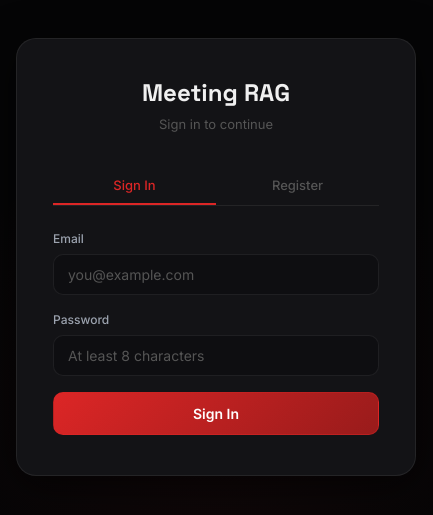
Test: AuthPage › shows email format error for invalid email
The image size is (433, 515).
Type "not-an-email" into the field labelled "Email". click: (216, 274)
box: x1=53 y1=254 x2=379 y2=295
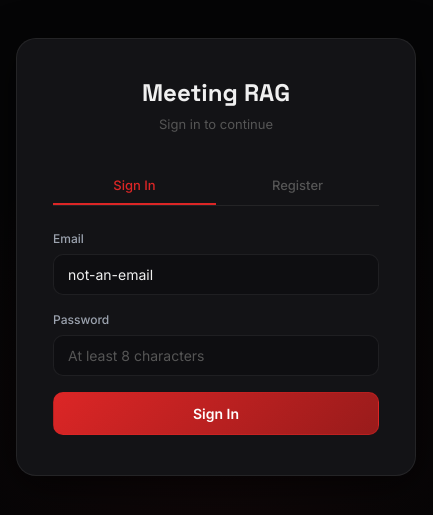
Click the button "Sign In" below "Password". click: click(216, 413)
box: x1=53 y1=392 x2=379 y2=435
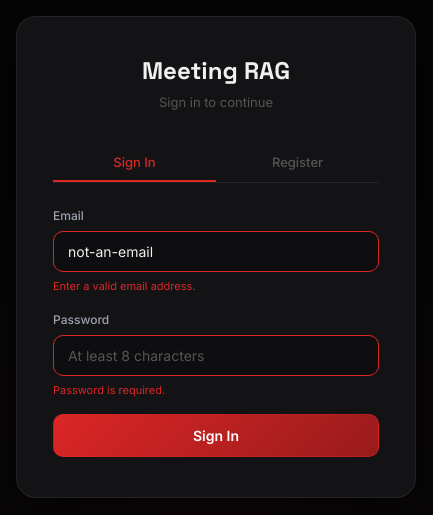
Now the text "Enter a valid email address." is shown, box x1=53 y1=279 x2=195 y2=293
